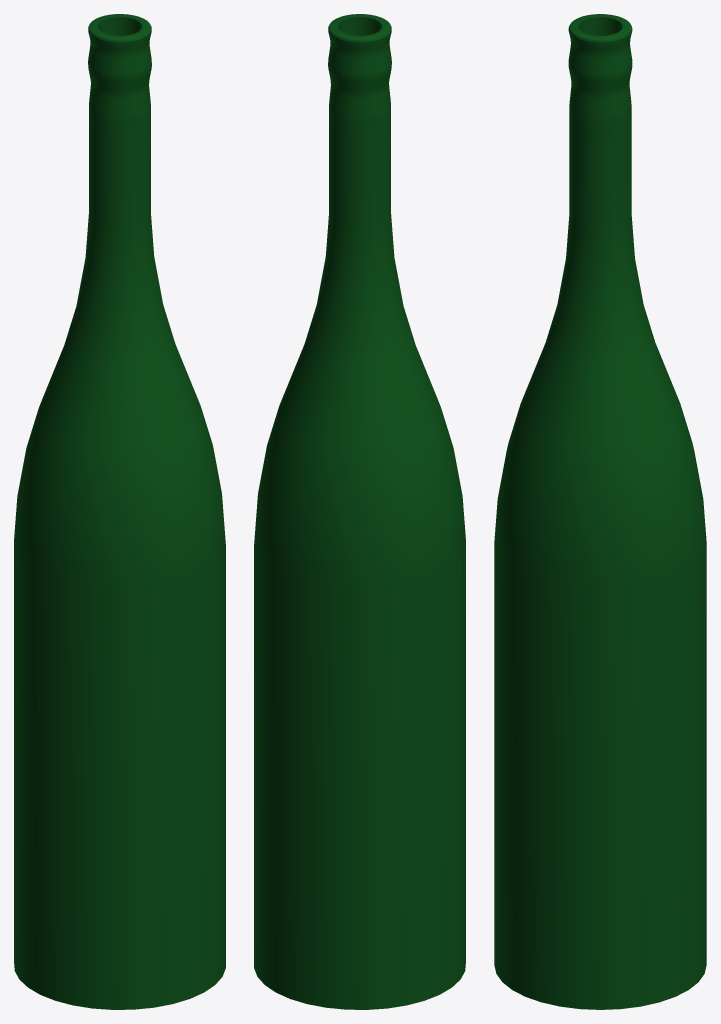
File: bottle.fbx
3 renders of one model, left to right at view 1: azimuth 30°, elevation 25°; view 2: azimuth 150°, elevation 25°; view 3: azimuth 270°, elevation 25°, orthographic.
Parts seen in each view (by area): view 1: Cylinder.026; view 2: Cylinder.026; view 3: Cylinder.026.
Boxes of the visible parts, x1,y1,x2,y2 form: Cylinder.026: [14, 14, 225, 1009]; Cylinder.026: [254, 14, 465, 1009]; Cylinder.026: [494, 14, 706, 1009].
Size of the model in its own units: 7.54 by 36.77 by 7.54.
